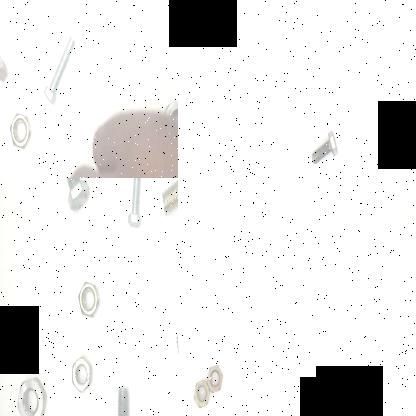Bolts: (42, 34, 82, 116), (60, 178, 98, 215), (308, 128, 340, 168), (125, 178, 145, 237), (107, 382, 139, 416), (158, 178, 178, 220), (0, 42, 9, 123)
NUTS: (10, 370, 48, 416), (70, 276, 102, 321), (6, 108, 34, 158), (72, 352, 96, 400), (190, 378, 212, 408), (206, 361, 224, 394)
